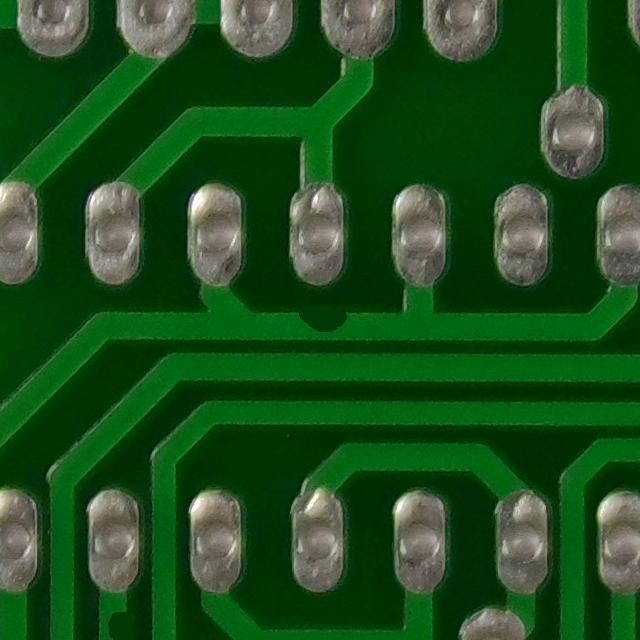mouse_bite: (277, 292, 364, 349)
